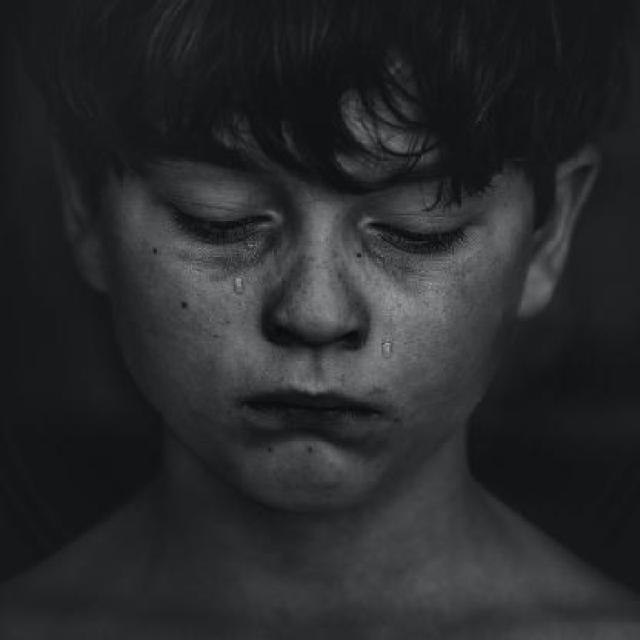closed-mouth: (234, 379, 386, 433)
